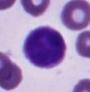L: (21, 25, 67, 70)
